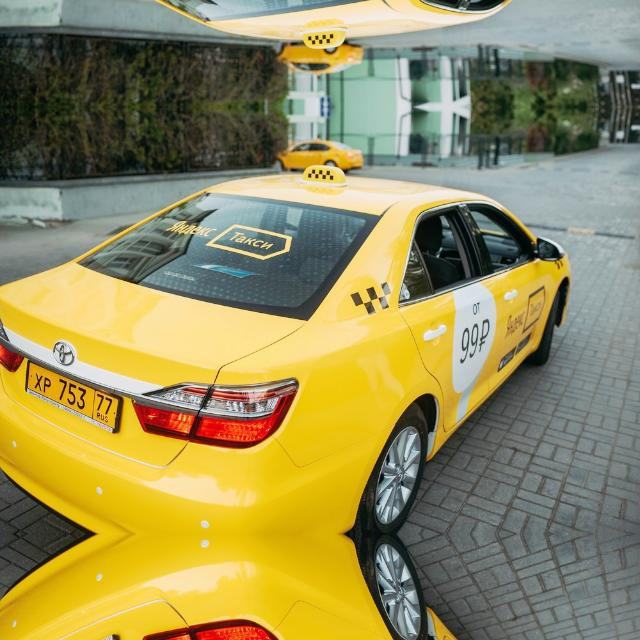taxi: (15, 352, 128, 442)
